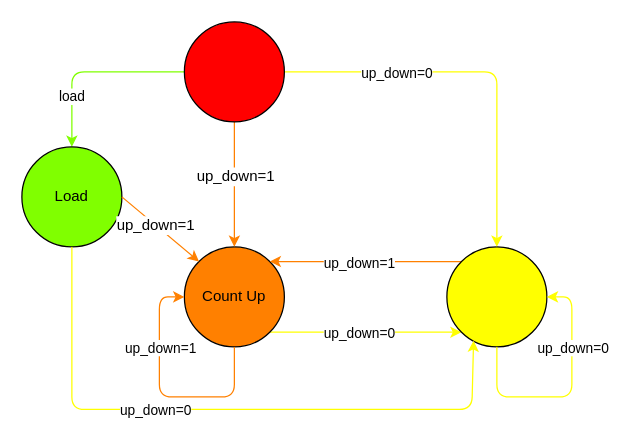
Image size: 630x441. Some labels were removed from this diagram. The shapes that lost their labels are listed below. From the top down, each one's box as (x1, y1, x2, y2) in pixels, then its label:
(183, 21, 284, 122): Idle
(446, 246, 547, 347): Count Down
